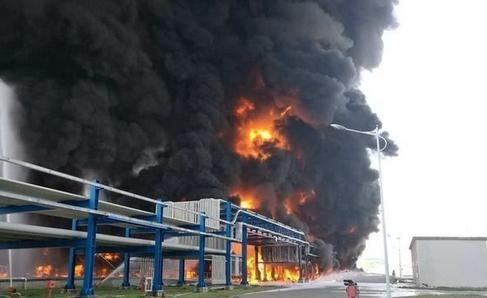fire: (233, 100, 287, 159), (240, 244, 310, 282), (35, 261, 54, 276), (73, 261, 85, 276)
